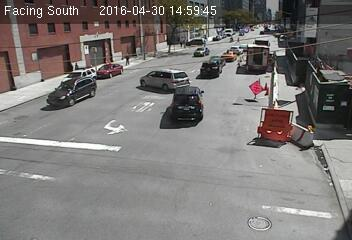neg: (160, 77, 178, 102), (198, 64, 207, 76), (192, 104, 200, 115), (279, 36, 283, 41)
pos: (121, 53, 131, 67), (72, 61, 79, 70), (228, 33, 234, 41), (236, 35, 241, 42)
